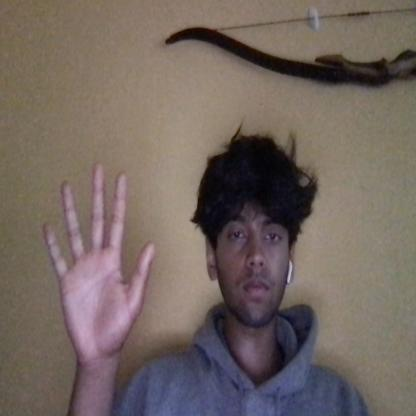palm: (14, 149, 164, 366)
